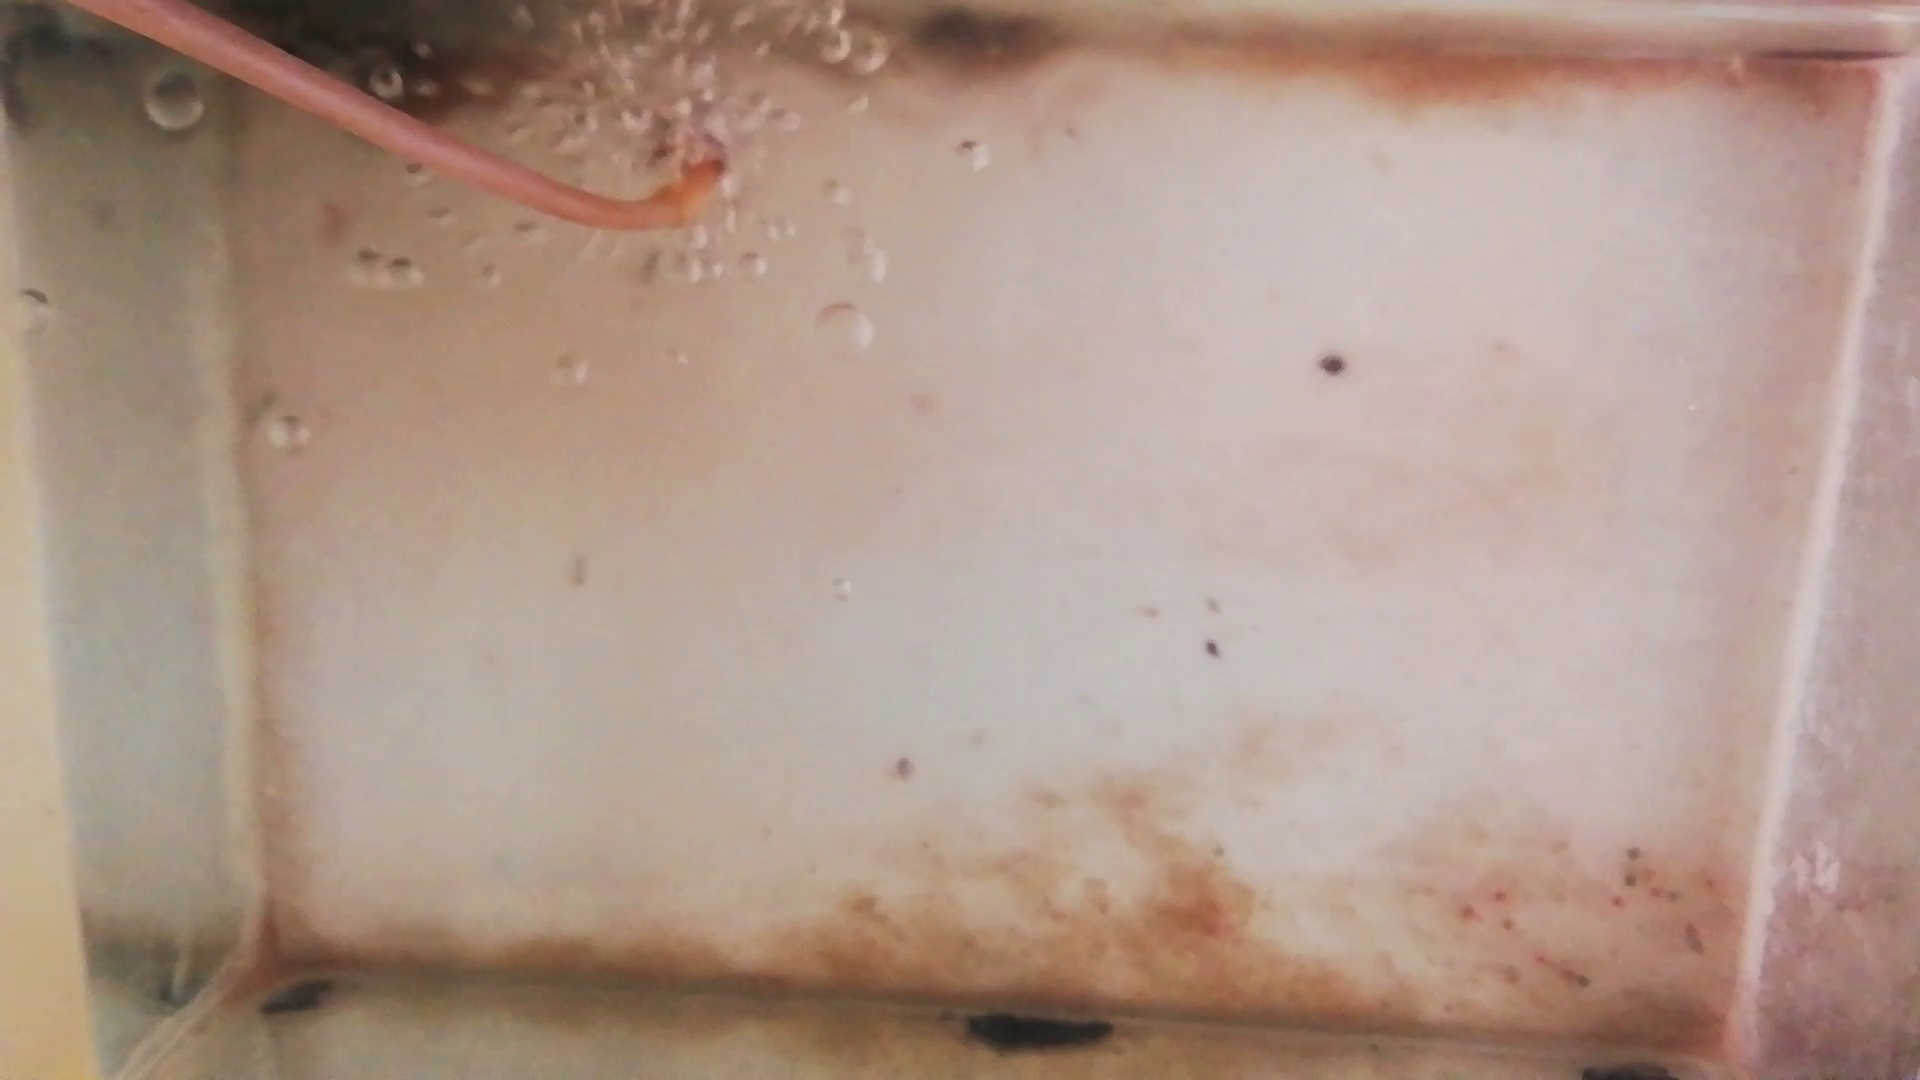fish: (382, 57, 568, 117)
